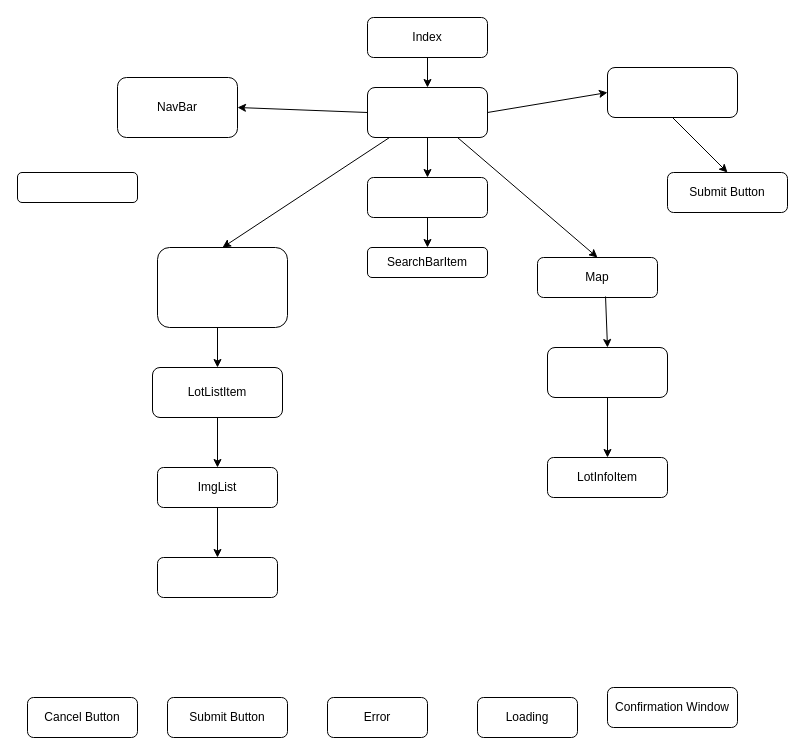
Some shapes in this 805 by 755 pixel diagram are drawn without their labels. Each missing label, with the box of its shape:
App "root": (366, 86, 488, 138)
Form: (606, 66, 738, 118)
ImgListItem: (156, 556, 278, 598)
Log in/Out: (16, 172, 138, 202)
LotItem: (546, 346, 668, 398)
LotList: (156, 246, 288, 328)
Search Bar: (366, 176, 488, 218)
